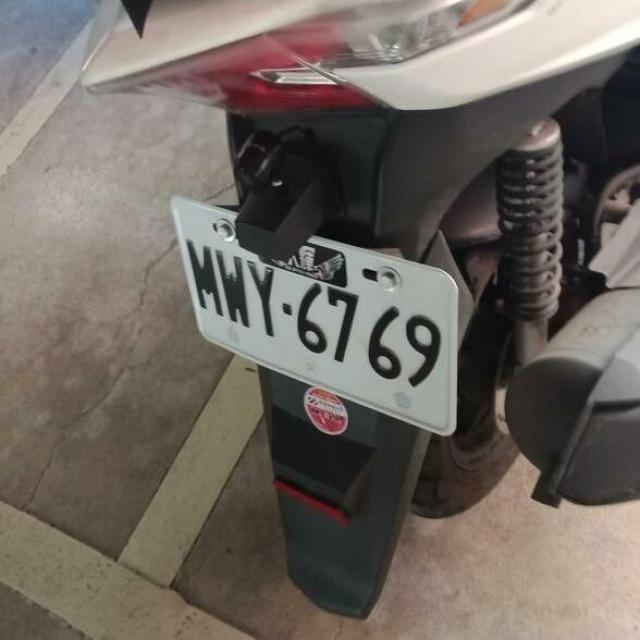W: (160, 200, 476, 448)
